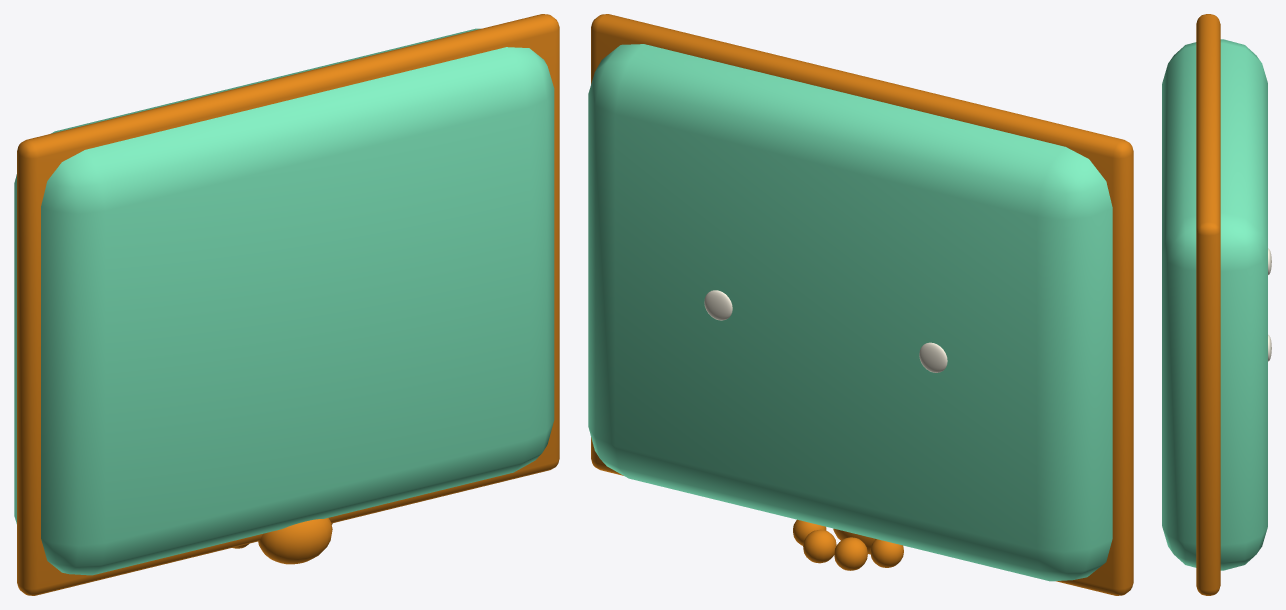
File: NapPillow_Premium.fbx
3 views of the same model, side by side, from view 1: azimuth 30°, elevation 25°; view 2: azimuth 150°, elevation 25°; view 3: azimuth 270°, elevation 25° (orthographic). The views are drawn at different scales.
Parts seen in each view (by area): view 1: NapPillow_Body; view 2: NapPillow_Body; view 3: NapPillow_Body.
Boxes of the visible parts, x1,y1,x2,y2 form: NapPillow_Body: [14, 14, 559, 595]; NapPillow_Body: [588, 14, 1133, 595]; NapPillow_Body: [1162, 14, 1271, 595].
Size of the model in its own units: 0.6622 by 0.5626 by 0.1423.
